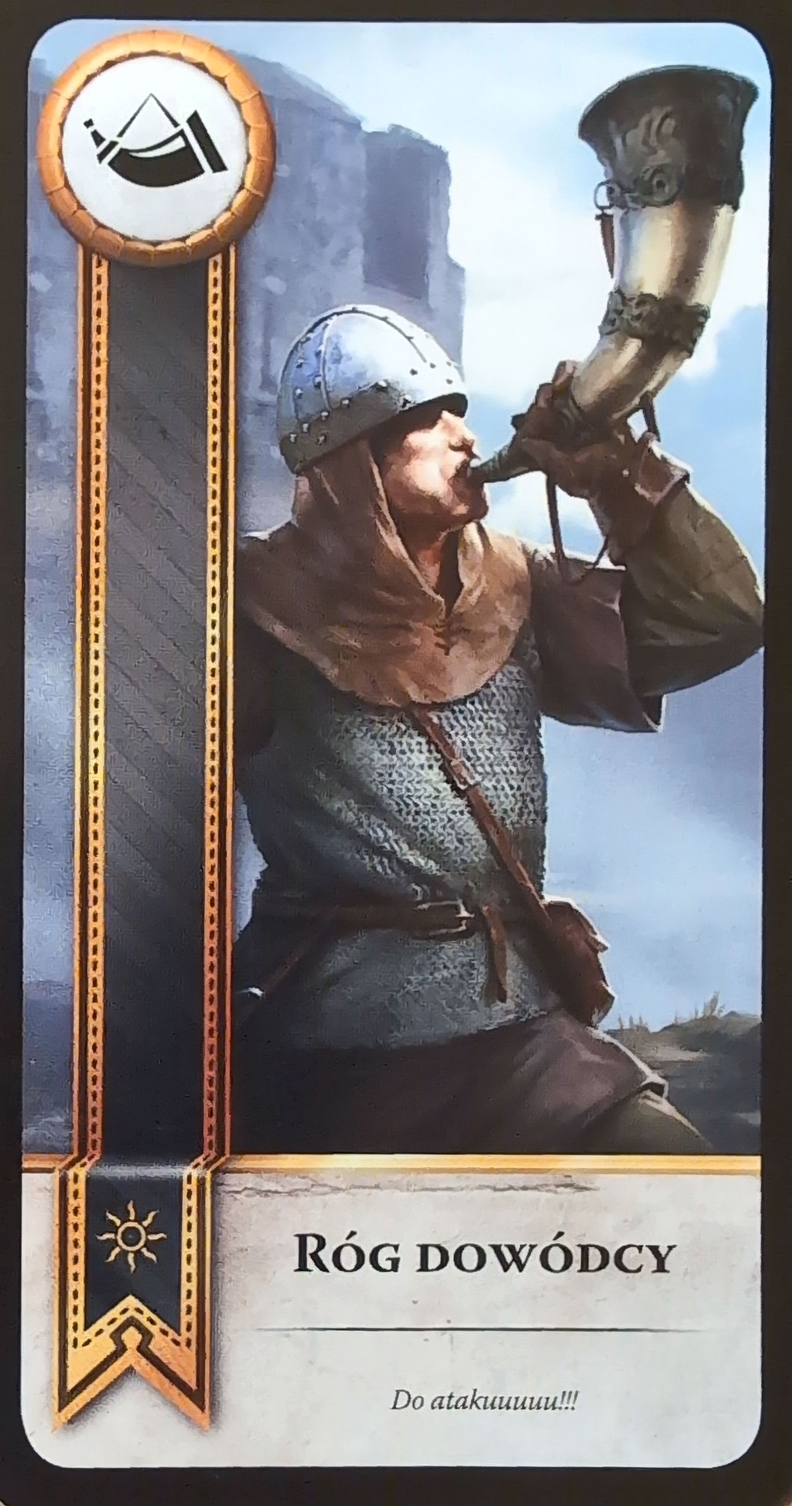rogkarta: (36, 28, 276, 272)
